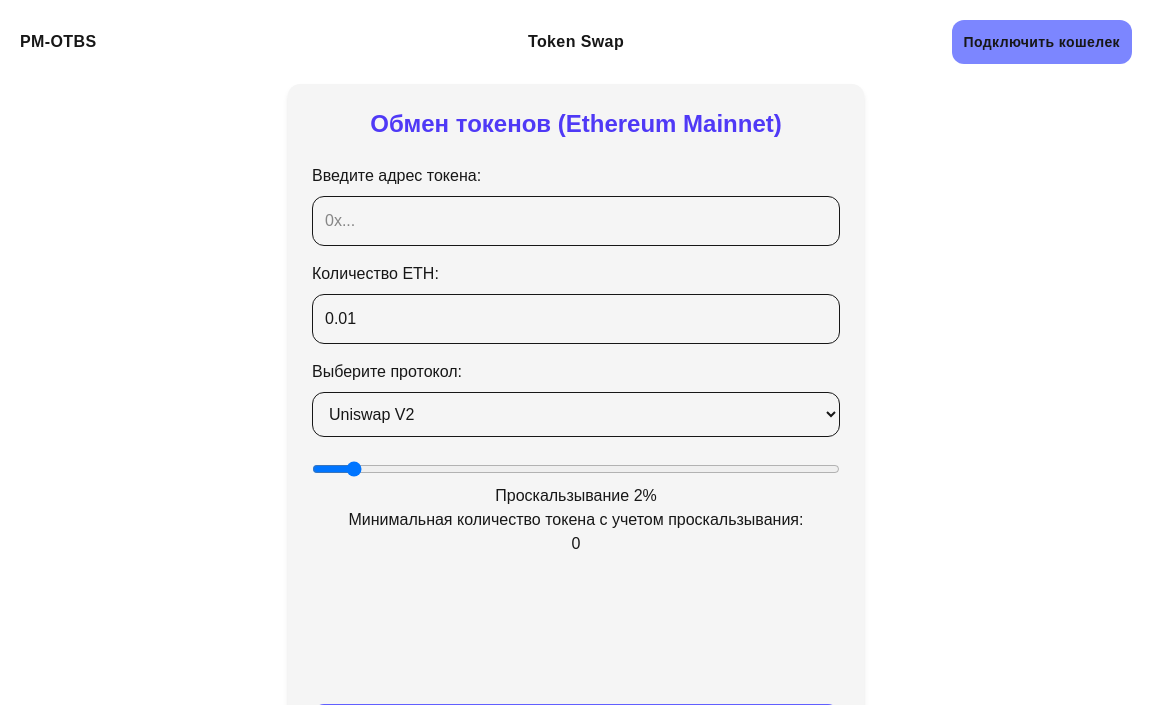
Test case: Интеграционный тест приложения › отображает основной UI и позволяет подключить кошелек
The width and height of the screenshot is (1152, 705).
Expected: the text "PM-OTBS" is shown, 20,30 -> 97,54
Expected: the text "Token Swap" is shown, 528,30 -> 624,54
What coordinates should you click on to do the following:
click the button "Подключить кошелек"
I would click on:
 (1042, 42)
Its box is 952,20 -> 1132,64.
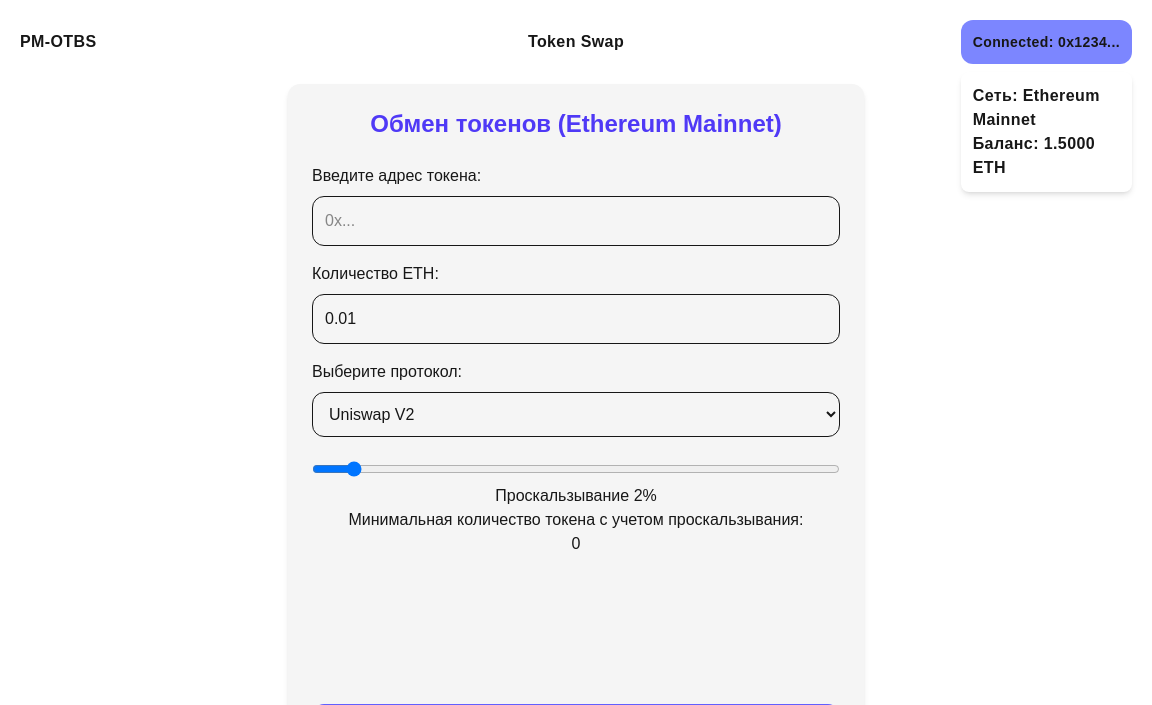
Now the button "Connected: 0x1234..." is shown, box 961,20 -> 1132,64
